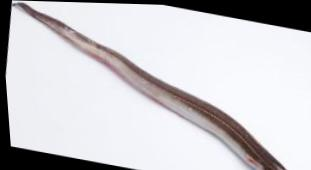fish: (13, 3, 285, 170)
